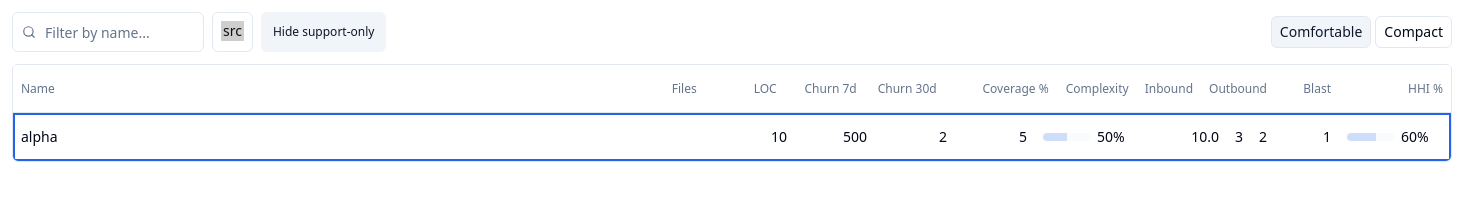
Test case: PressureTable › filters › shows empty state when filters yield zero rows
Type "zzzzz" into the field named "Filter districts by name" at point(108, 32), box [12,12,204,52]
Wait 200 ms
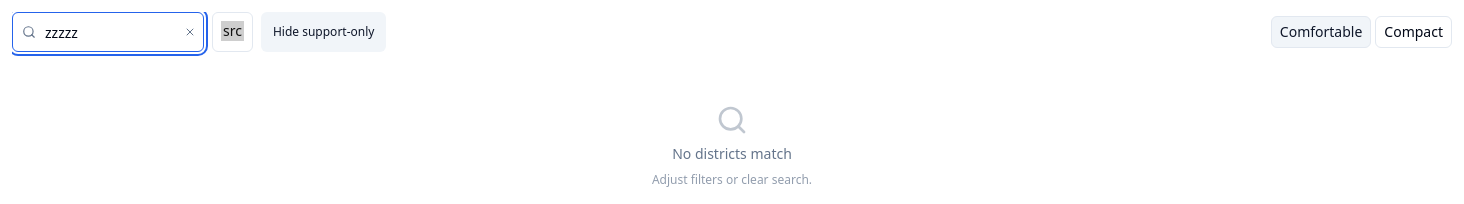
Check: the text "No districts match" is shown, box [672,144,792,164]
